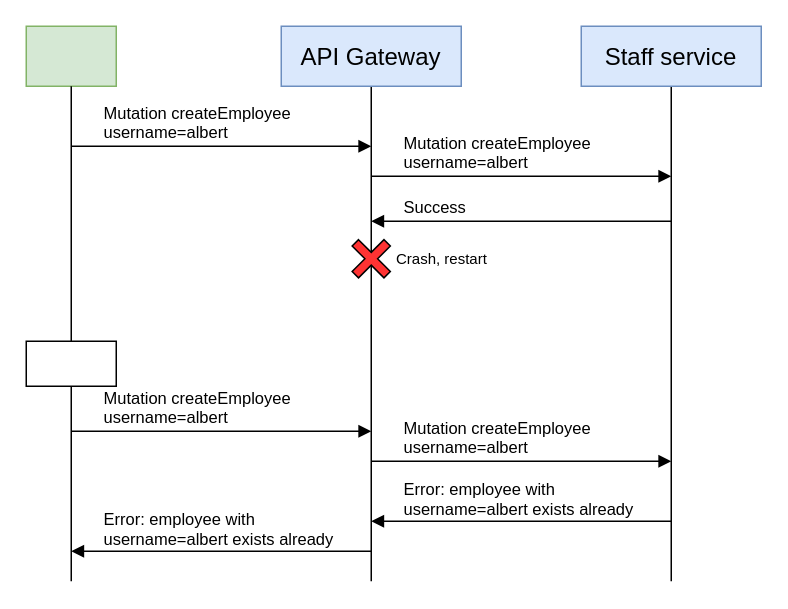
Image size: 788x609. Some labels were removed from this diagram. Each missing label, with the box of its shape:
Client: (25, 25, 116, 86)
Retry timeout: (25, 340, 116, 386)
